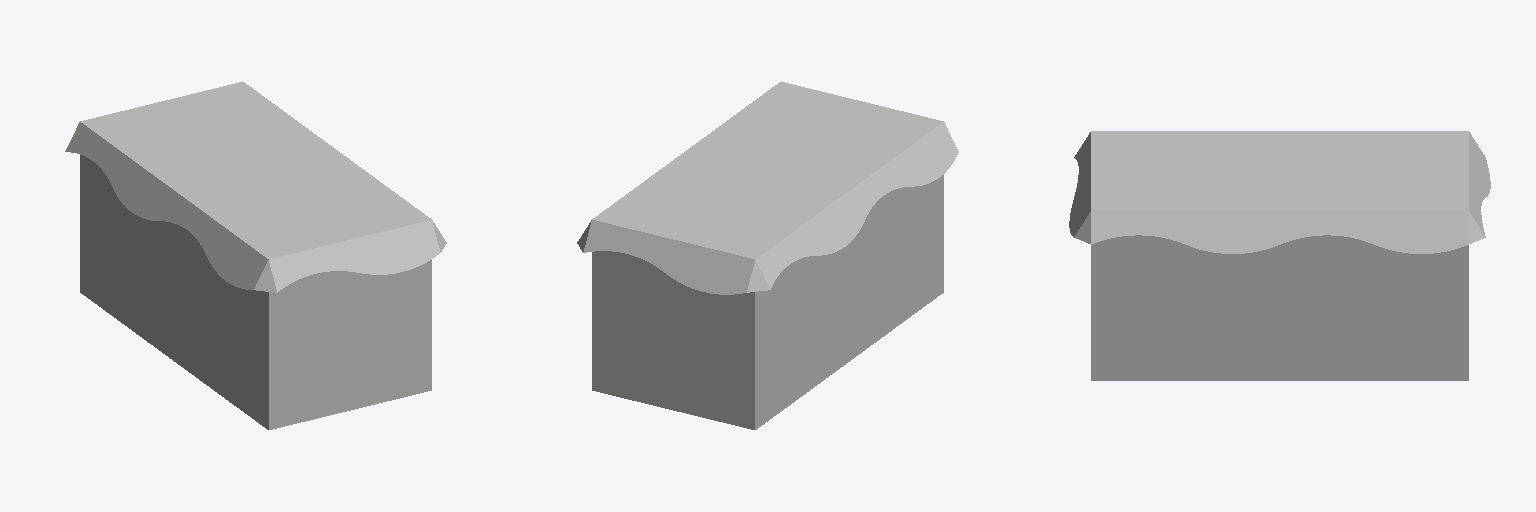
File: blockSnowLong.obj
3 views of the same model, side by side, from view 1: azimuth 30°, elevation 25°; view 2: azimuth 150°, elevation 25°; view 3: azimuth 270°, elevation 25° (orthographic).
Visible parts, largest first — view 1: blockSnowLong; view 2: blockSnowLong; view 3: blockSnowLong.
Boxes of the visible parts, box(x1,y1,x2,y2) form: blockSnowLong: box(65, 82, 446, 429); blockSnowLong: box(577, 82, 958, 429); blockSnowLong: box(1069, 131, 1490, 380).
Size of the model in its own units: 1.23 by 1 by 2.23.